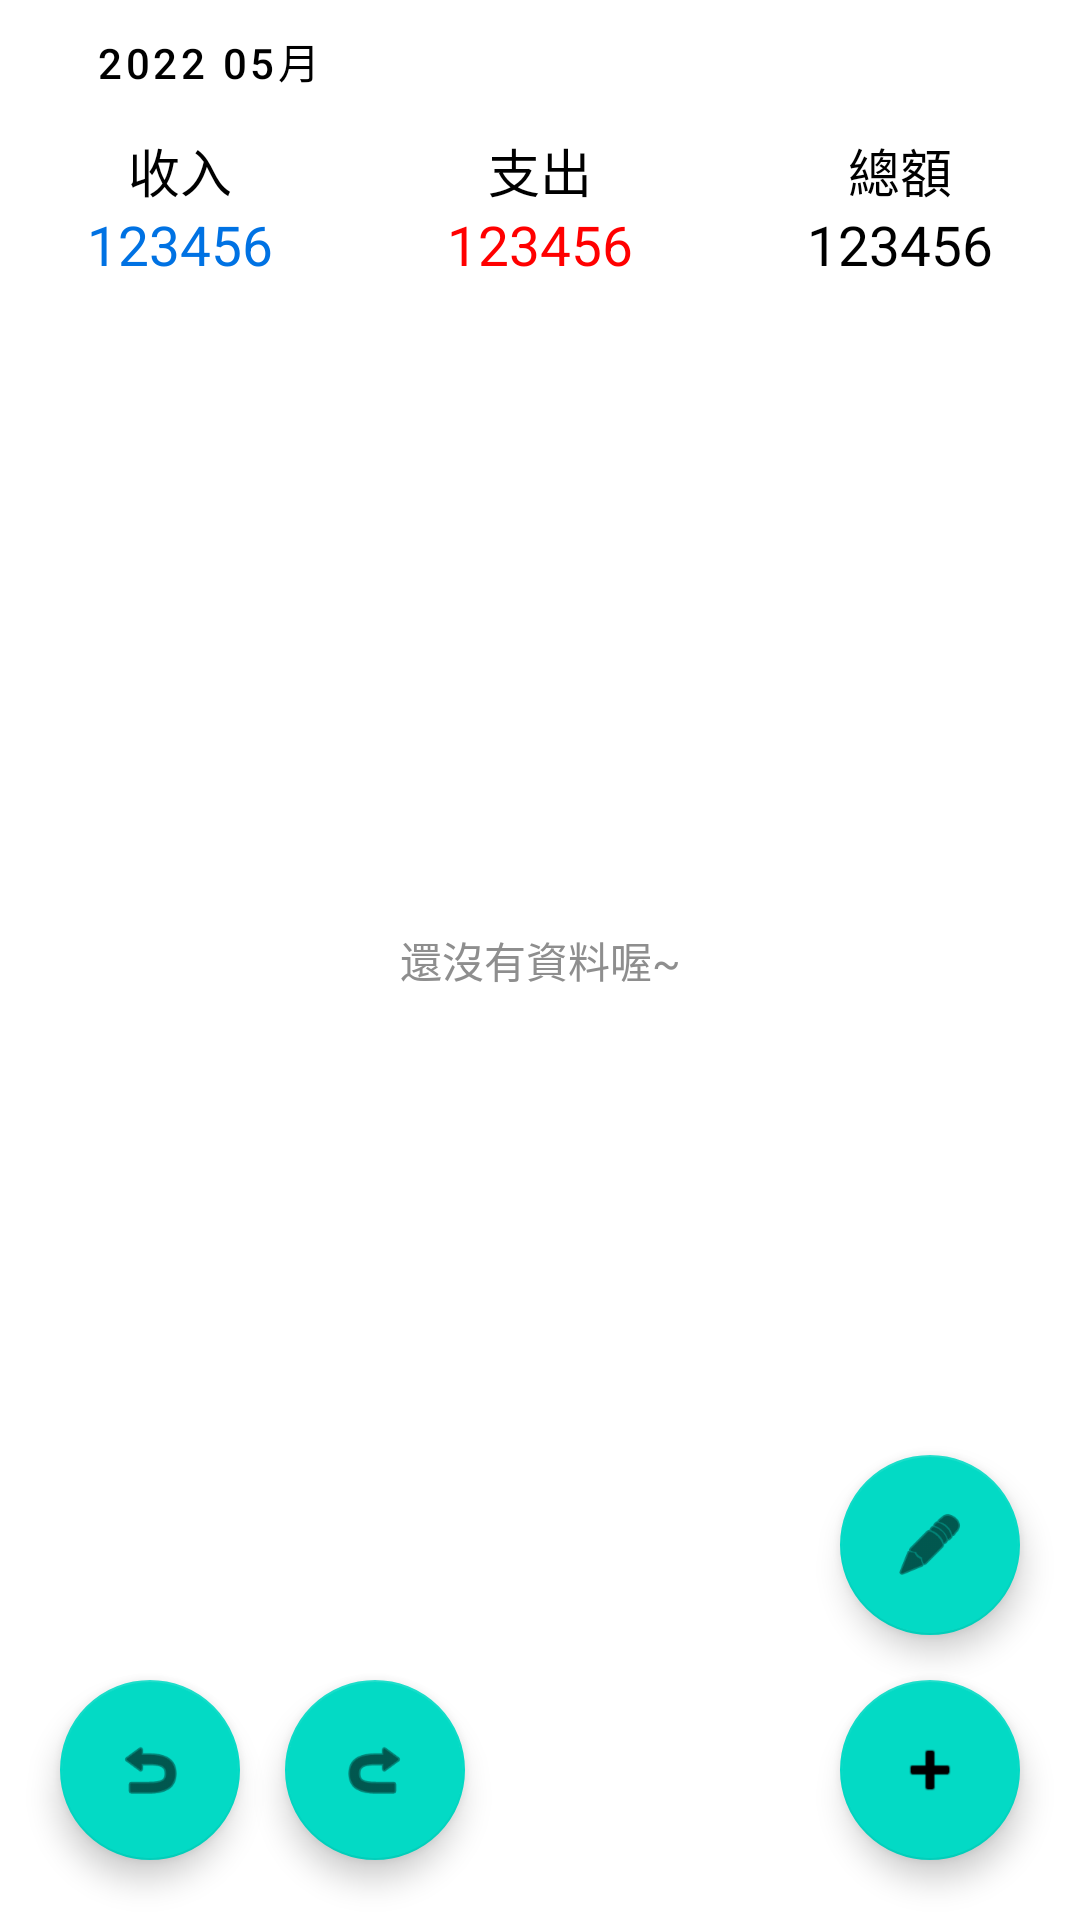

Locate icon controls on the screen. Image size 1080w x 1920h, boxes as {"left": x1, "top": y1, "right": x2, "bottom": y2}.
add: {"left": 840, "top": 1680, "right": 1020, "bottom": 1860}
edit: {"left": 840, "top": 1455, "right": 1020, "bottom": 1635}
